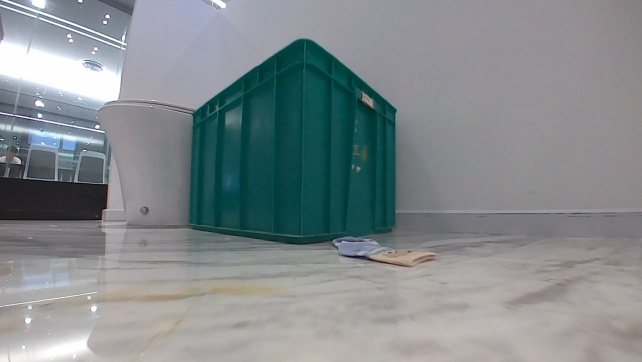socks: (329, 233, 438, 268)
toilet: (94, 95, 197, 230)
